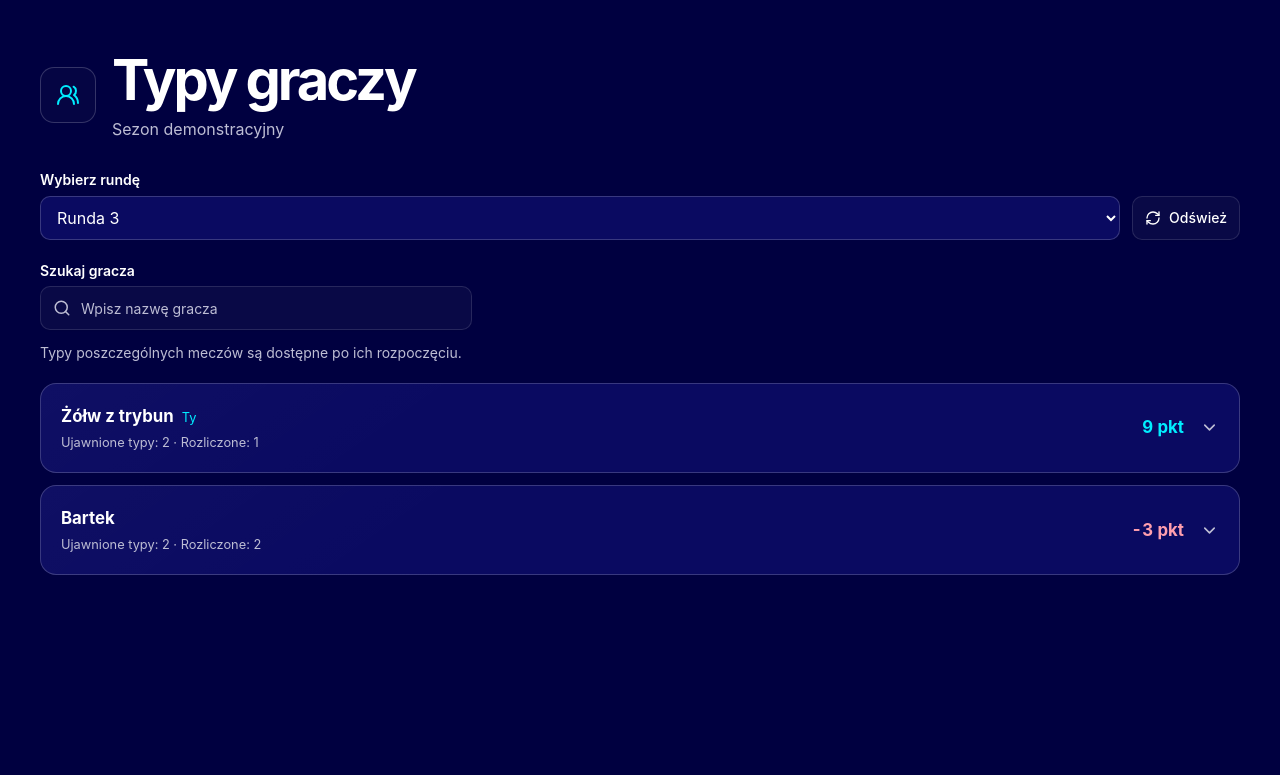
Scenario: removes private data after session expiry on refresh
Click the button "Żółw z trybun" at (117,416), box [41,384,1239,472]
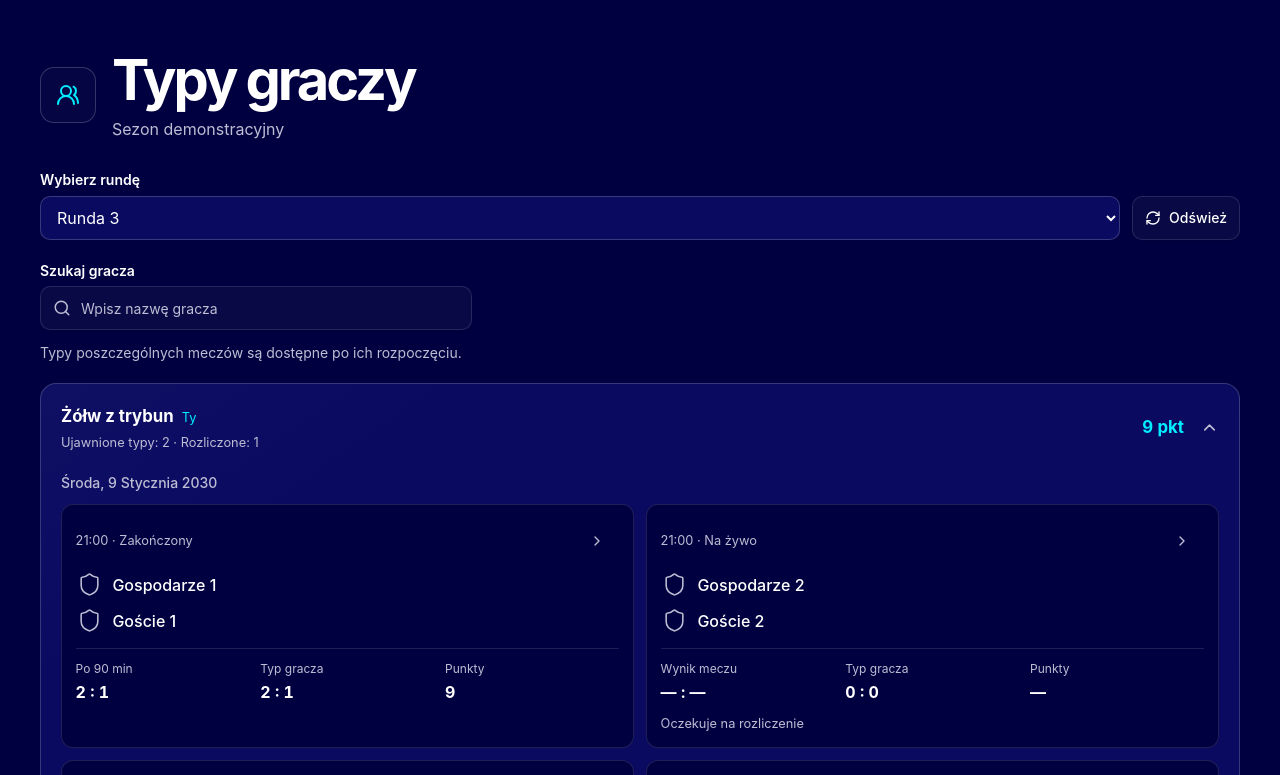
Click the button "Odśwież" at (1186,218), box [1132,196,1240,240]
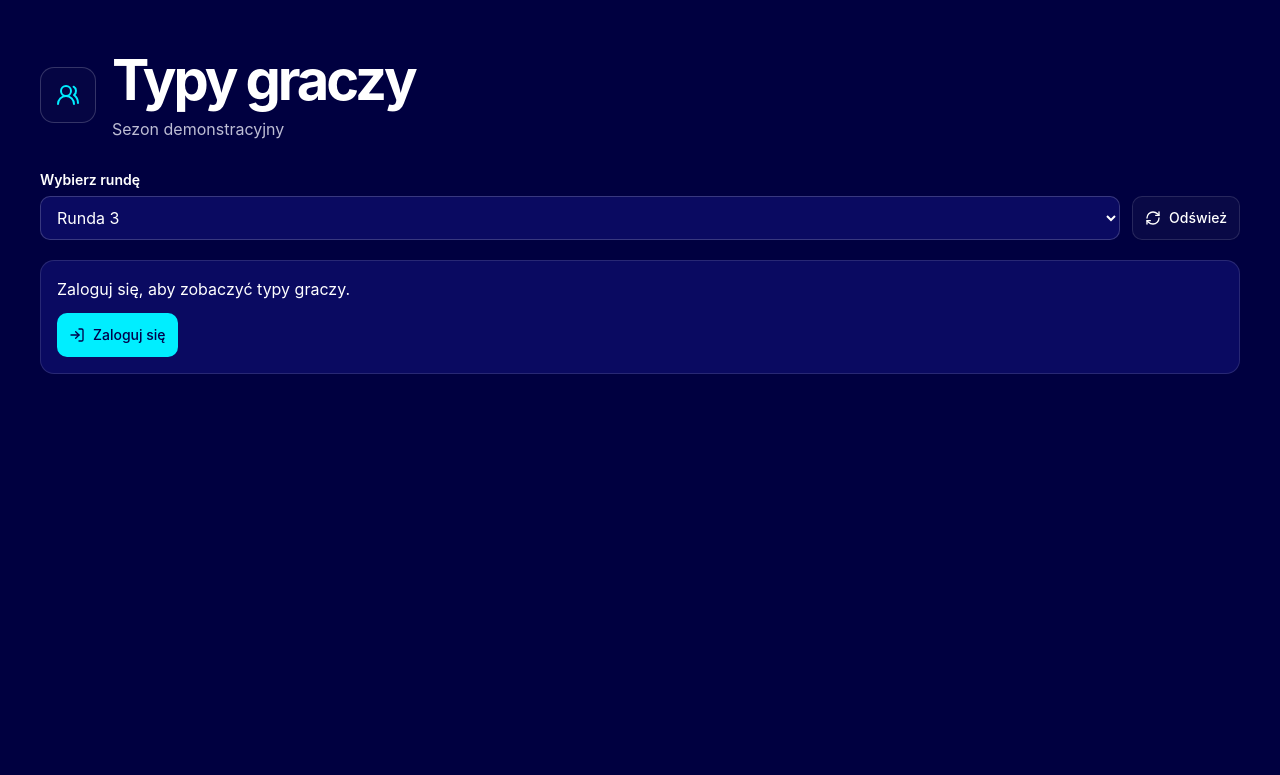
Expected: the button "Żółw z trybun" is gone
